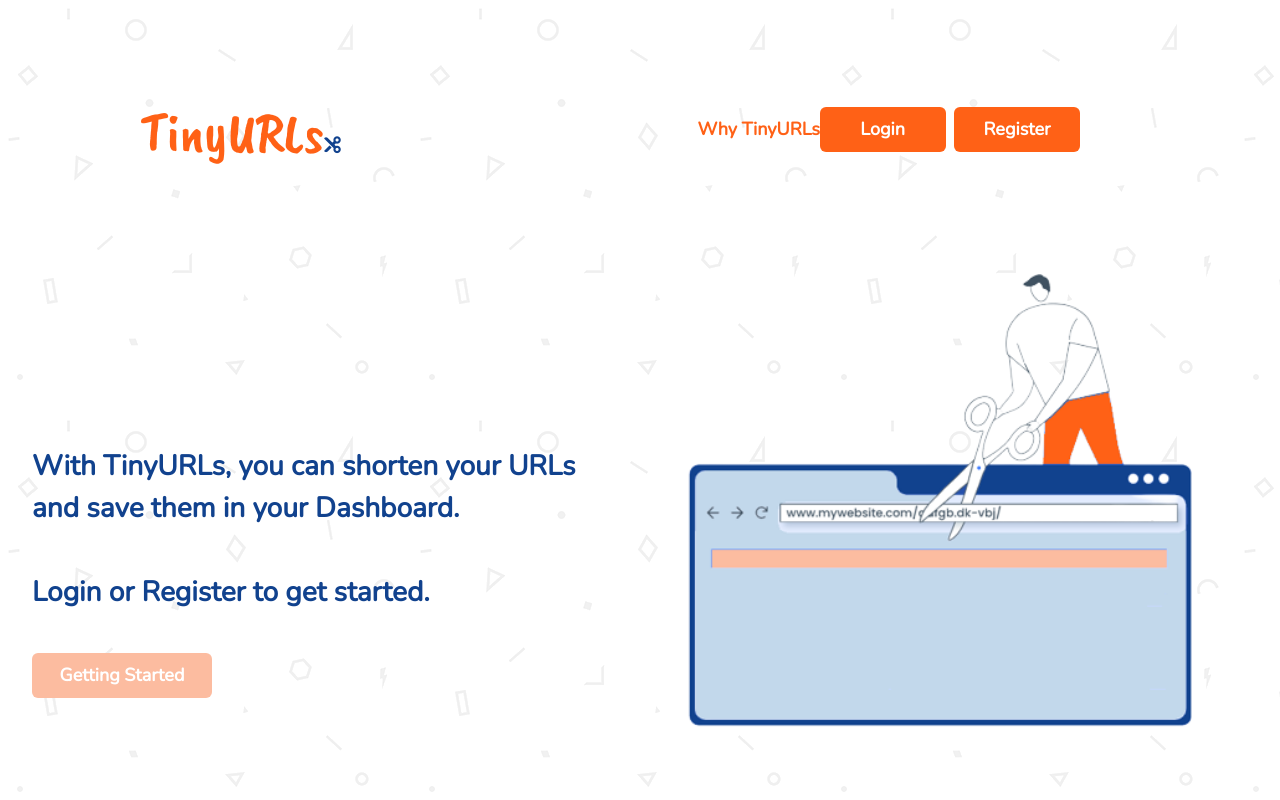
LandingPage › it should open a popup form when you click on Login button
Click the button with test id "login".
click(883, 130)  # box 820,107 -> 946,152
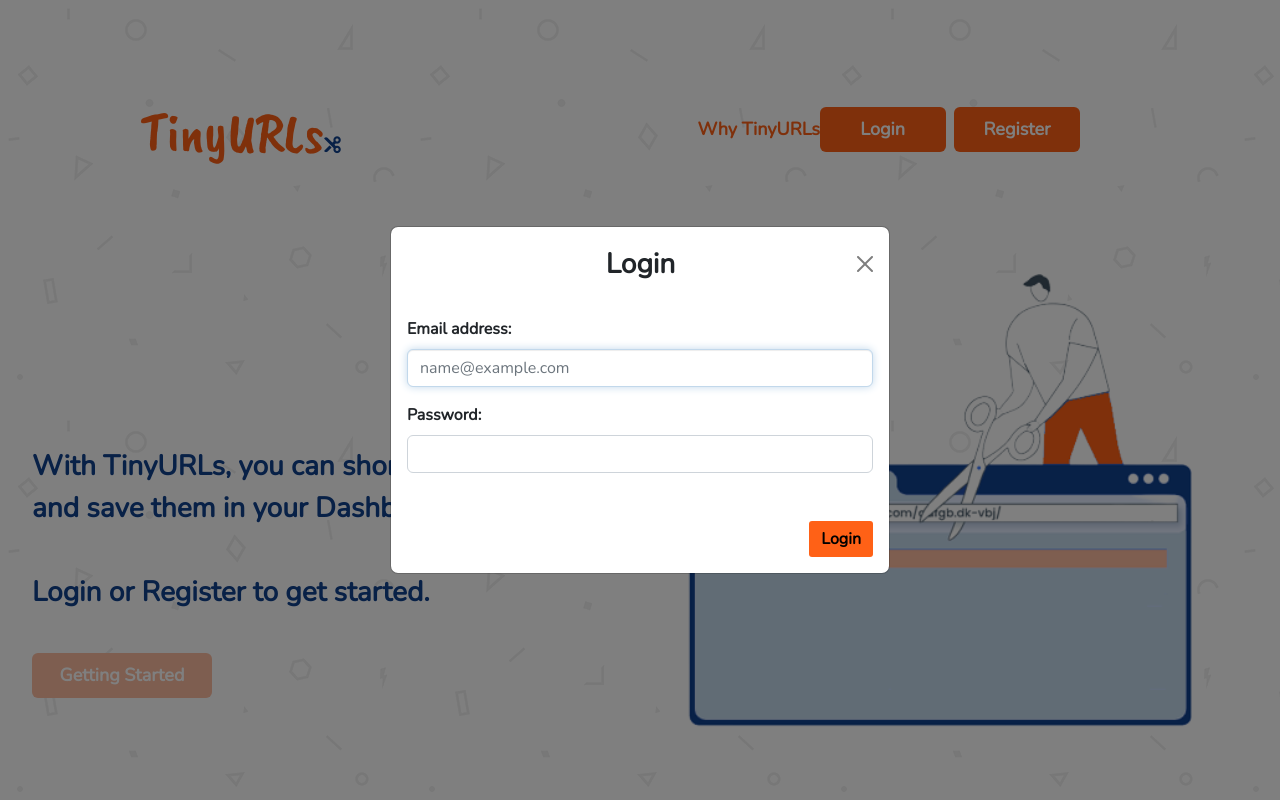
Expected: the field labelled "Email address:" is shown, 407,349 -> 873,387
Expected: the password field labelled "Password:" is shown, 407,435 -> 873,473
